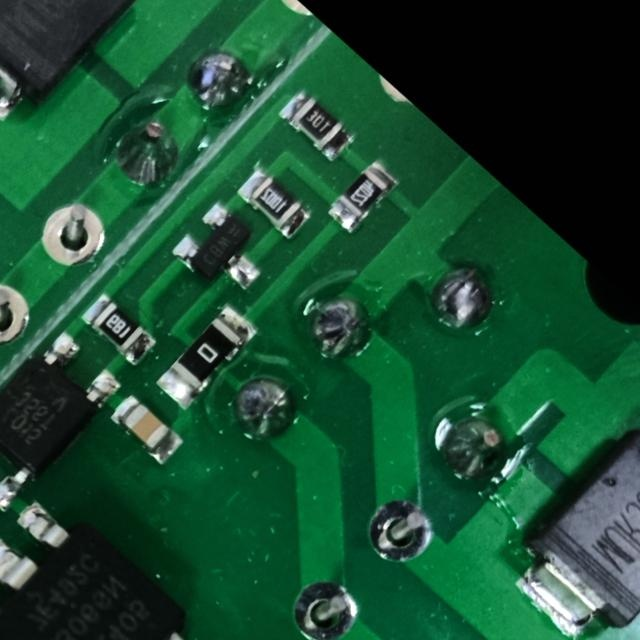chip-capacitor: (104, 388, 188, 468)
chip-resistor: (150, 298, 263, 416), (274, 85, 358, 166), (76, 289, 160, 370), (322, 154, 402, 237), (235, 160, 317, 240)
diode: (497, 412, 640, 640), (0, 0, 160, 137)
ic: (0, 321, 127, 518)
transistor: (166, 195, 281, 309)
